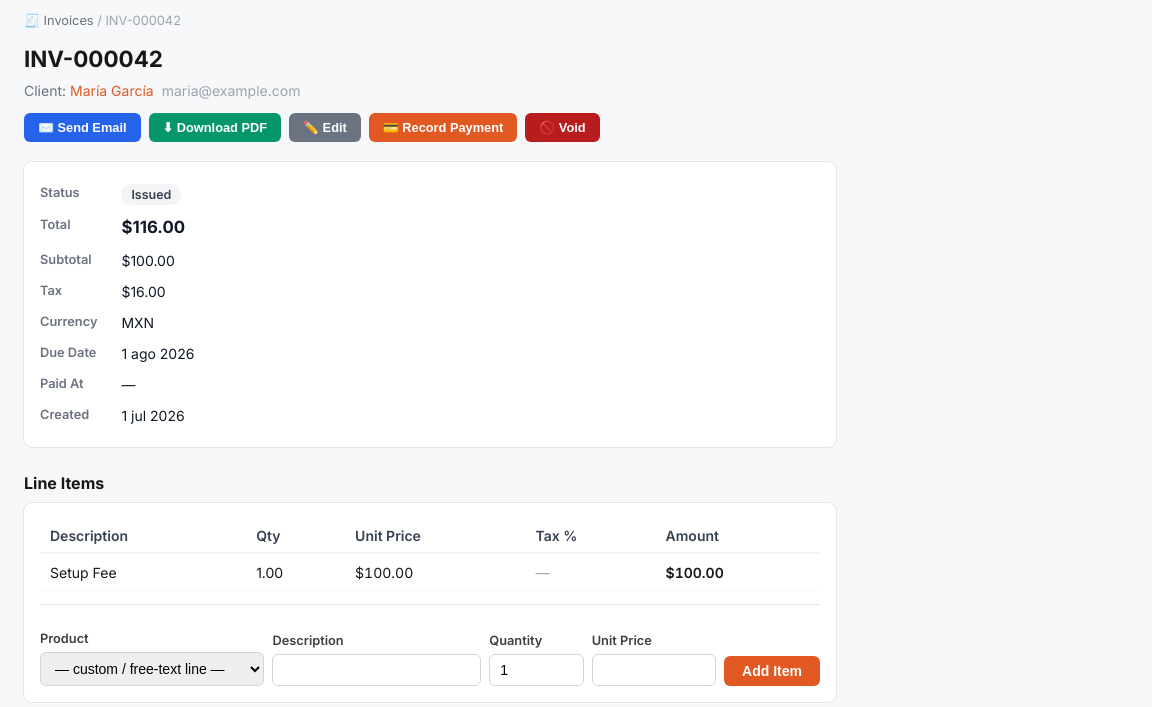
Test: InvoiceDetail page › blocks submit with a fractional quantity on a product-picker (inventory-linked) line
Expected: the text "Setup Fee" is shown, [40,553,246,591]
Select "MikroTik hAP ac3 — 899.00 (on hand: 5)" in the dropdown labelled "Product": (152, 669) [40,652,264,686]
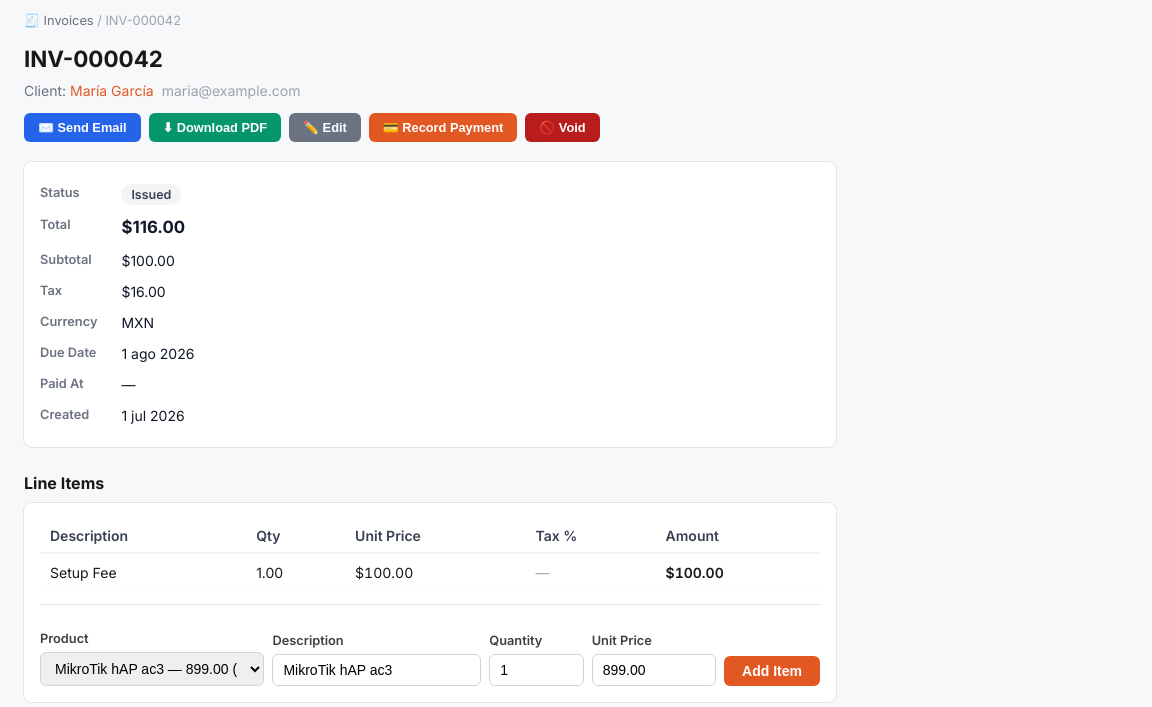
Replace the text in the number field labelled "Quantity" with "1.5": (536, 670) [489,654,584,686]
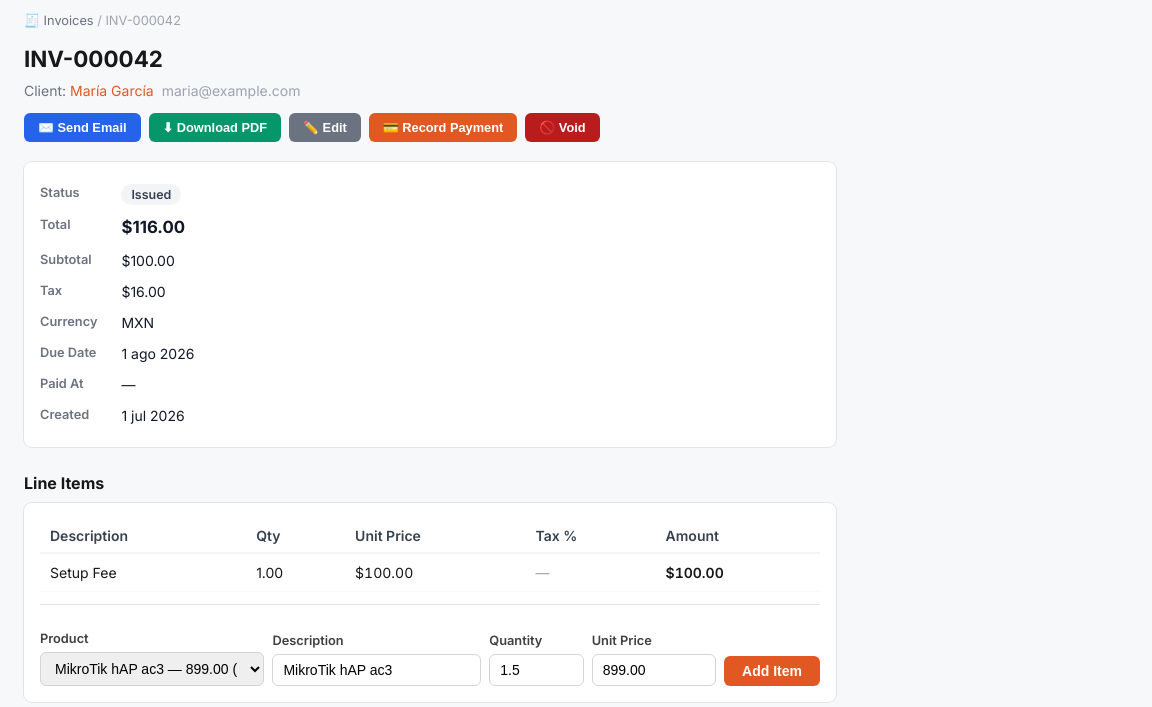
Submit the form labelled "Product Description Quantity Unit Price Add Item", box [40,604,820,686]
(page scrolled)
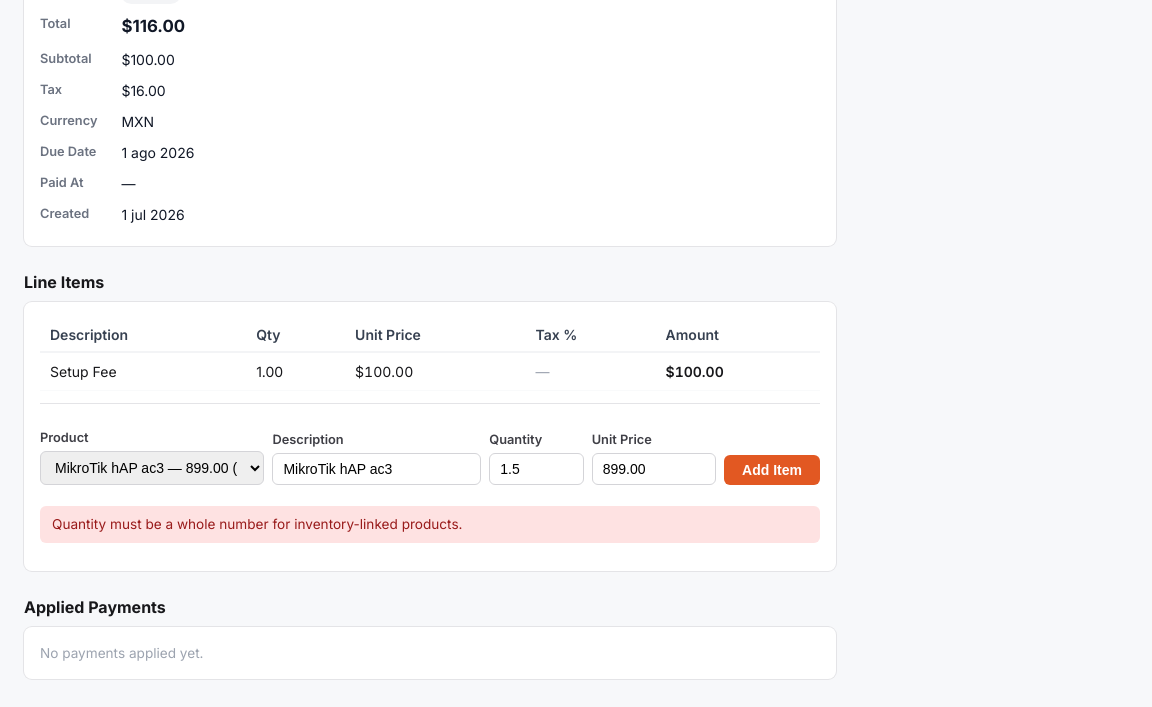
Result: the text "Quantity must be a whole number for inventory-linked products." is shown at [40,506,820,543]
